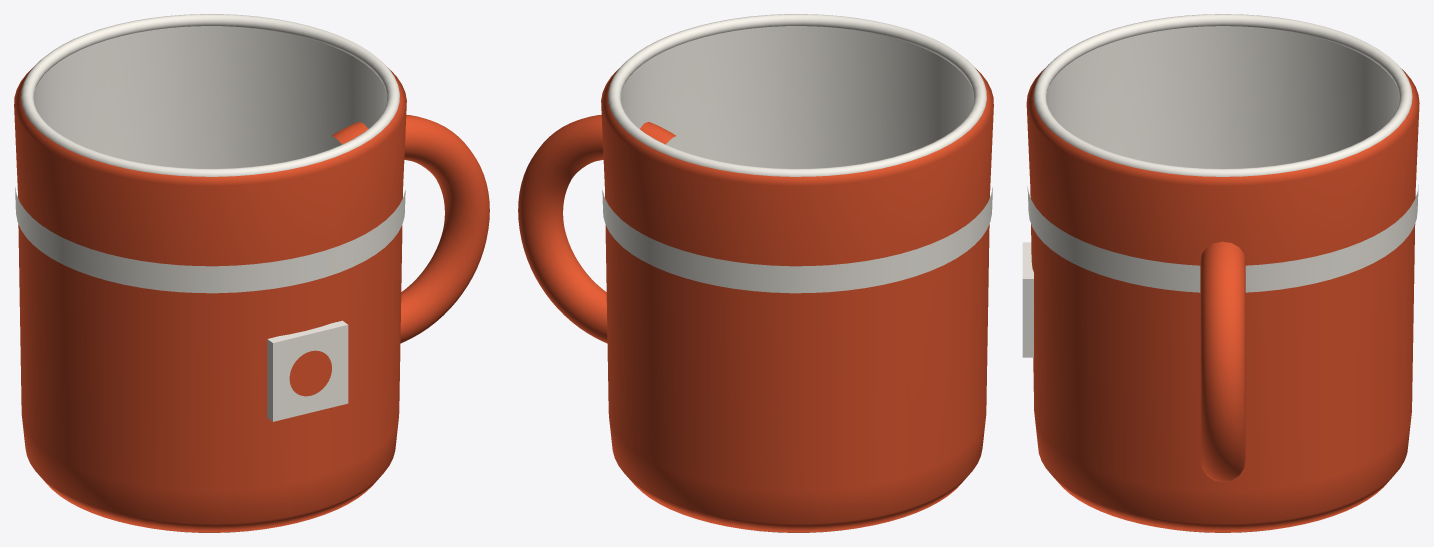
The model's file is mug-optimized.glb.
3 renders of one model, left to right at view 1: azimuth 30°, elevation 25°; view 2: azimuth 150°, elevation 25°; view 3: azimuth 270°, elevation 25°, orthographic.
Parts seen in each view (by area): view 1: Body, Interior, Handle, Band, Rim, Badge, BadgeDot; view 2: Body, Interior, Handle, Band, Rim; view 3: Body, Interior, Handle, Rim, Band, Badge.
Boxes of the visible parts, x1,y1,x2,y2 form: Body: (14,68,406,532); Interior: (34,26,386,168); Handle: (332,114,489,343); Band: (15,187,405,293); Rim: (21,14,399,176); Badge: (267,320,348,421); BadgeDot: (289,350,331,396); Body: (601,68,993,532); Interior: (621,26,973,168); Handle: (518,114,675,343); Band: (602,187,992,293); Rim: (608,14,986,176); Body: (1026,68,1419,532); Interior: (1046,26,1399,168); Handle: (1200,241,1245,482); Rim: (1033,14,1412,176); Band: (1027,185,1418,292); Badge: (1022,242,1033,357).
Size of the model in its own units: 0.1228 by 0.0974 by 0.0946.
